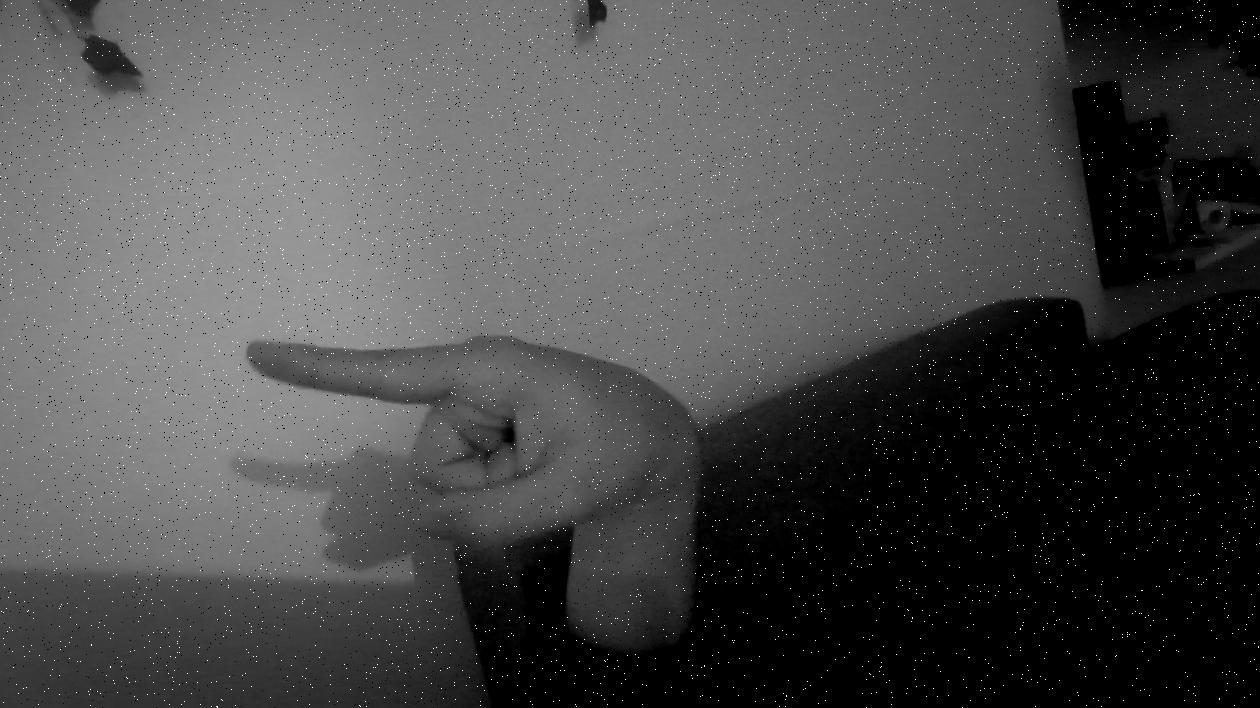left: (236, 321, 719, 573)
